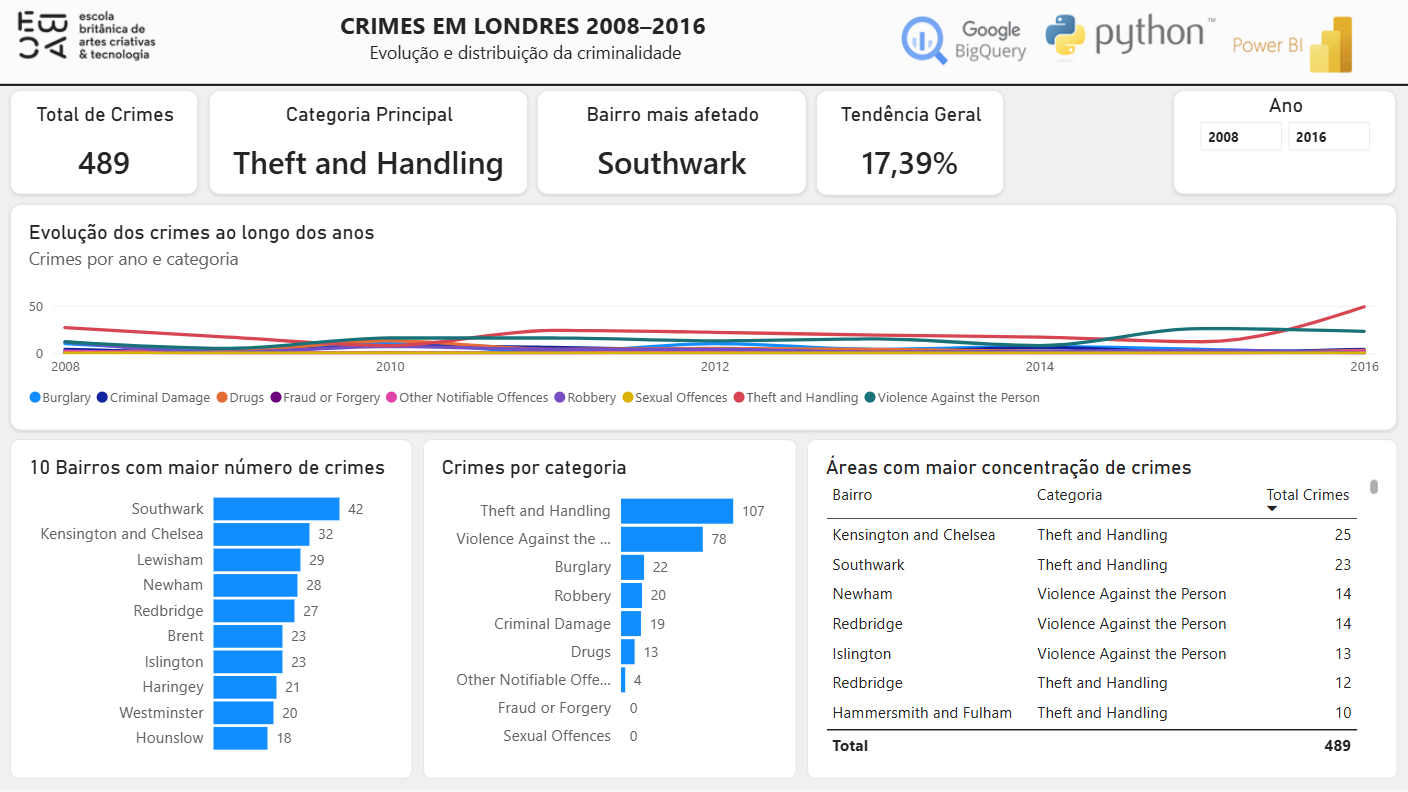

The dashboard page shown, as its layout file describes it:
{"tool":"powerbi","page":{"name":"Dash","canvas":[1280,720],"ordinal":0},"visuals":[{"type":"shape","box":[148.3,0,472.9,72.2],"z":0},{"type":"textbox","box":[225,8.3,500,56.7],"z":1000},{"type":"cardVisual","title":"Total de Crimes","fields":{"Data":["ready.Total Crimes"]},"box":[8.9,82.2,171.1,95.3],"z":2000},{"type":"cardVisual","title":"Categoria Principal","fields":{"Data":["ready.Principal Categoria"]},"box":[190,82.2,290,95.3],"z":3000},{"type":"cardVisual","title":"Bairro mais afetado","fields":{"Data":["ready.Bairro Mais Afetado"]},"box":[487.8,82.2,245,95],"z":4000},{"type":"cardVisual","title":"Tendência Geral","fields":{"Data":["ready.Variação Geral %"]},"box":[742.2,82.2,171.1,95.6],"z":5000},{"type":"lineChart","title":"Evolução dos crimes ao longo dos anos","fields":{"Category":["ready.year"],"Y":["ready.Total Crimes"],"Series":["ready.major_category"]},"box":[8.9,185.6,1261.1,205.6],"z":5001},{"type":"barChart","title":"10 Bairros com maior número de crimes","fields":{"Category":["ready.borough"],"Y":["ready.Total Crimes"]},"box":[8.9,398.9,365.6,308.9],"z":5002},{"type":"barChart","title":"Crimes por categoria","fields":{"Category":["ready.major_category"],"Y":["ready.Total Crimes"]},"box":[384.4,398.9,340,308.9],"z":5004},{"type":"tableEx","title":"Áreas com maior concentração de crimes","fields":{"Values":["ready.borough","ready.major_category","ready.Total Crimes"]},"box":[733.3,398.9,536.7,308.9],"z":5005},{"type":"slicer","title":"Ano","fields":{"Values":["ready.year"]},"box":[1066.7,82.2,203.3,95],"z":5006}]}

Visuals, with their boxes in screenshot pixels (x1, y1, x2, y2), scaled from the page's 1280x720 canvas onto the 1408x792 screenshot:
shape: pyautogui.locateOnScreen(163, 0, 683, 79)
textbox: pyautogui.locateOnScreen(248, 9, 798, 72)
"Total de Crimes" cardVisual: pyautogui.locateOnScreen(10, 90, 198, 195)
"Categoria Principal" cardVisual: pyautogui.locateOnScreen(209, 90, 528, 195)
"Bairro mais afetado" cardVisual: pyautogui.locateOnScreen(537, 90, 806, 195)
"Tendência Geral" cardVisual: pyautogui.locateOnScreen(816, 90, 1005, 196)
"Evolução dos crimes ao longo dos anos" lineChart: pyautogui.locateOnScreen(10, 204, 1397, 430)
"10 Bairros com maior número de crimes" barChart: pyautogui.locateOnScreen(10, 439, 412, 779)
"Crimes por categoria" barChart: pyautogui.locateOnScreen(423, 439, 797, 779)
"Áreas com maior concentração de crimes" tableEx: pyautogui.locateOnScreen(807, 439, 1397, 779)
"Ano" slicer: pyautogui.locateOnScreen(1173, 90, 1397, 195)
